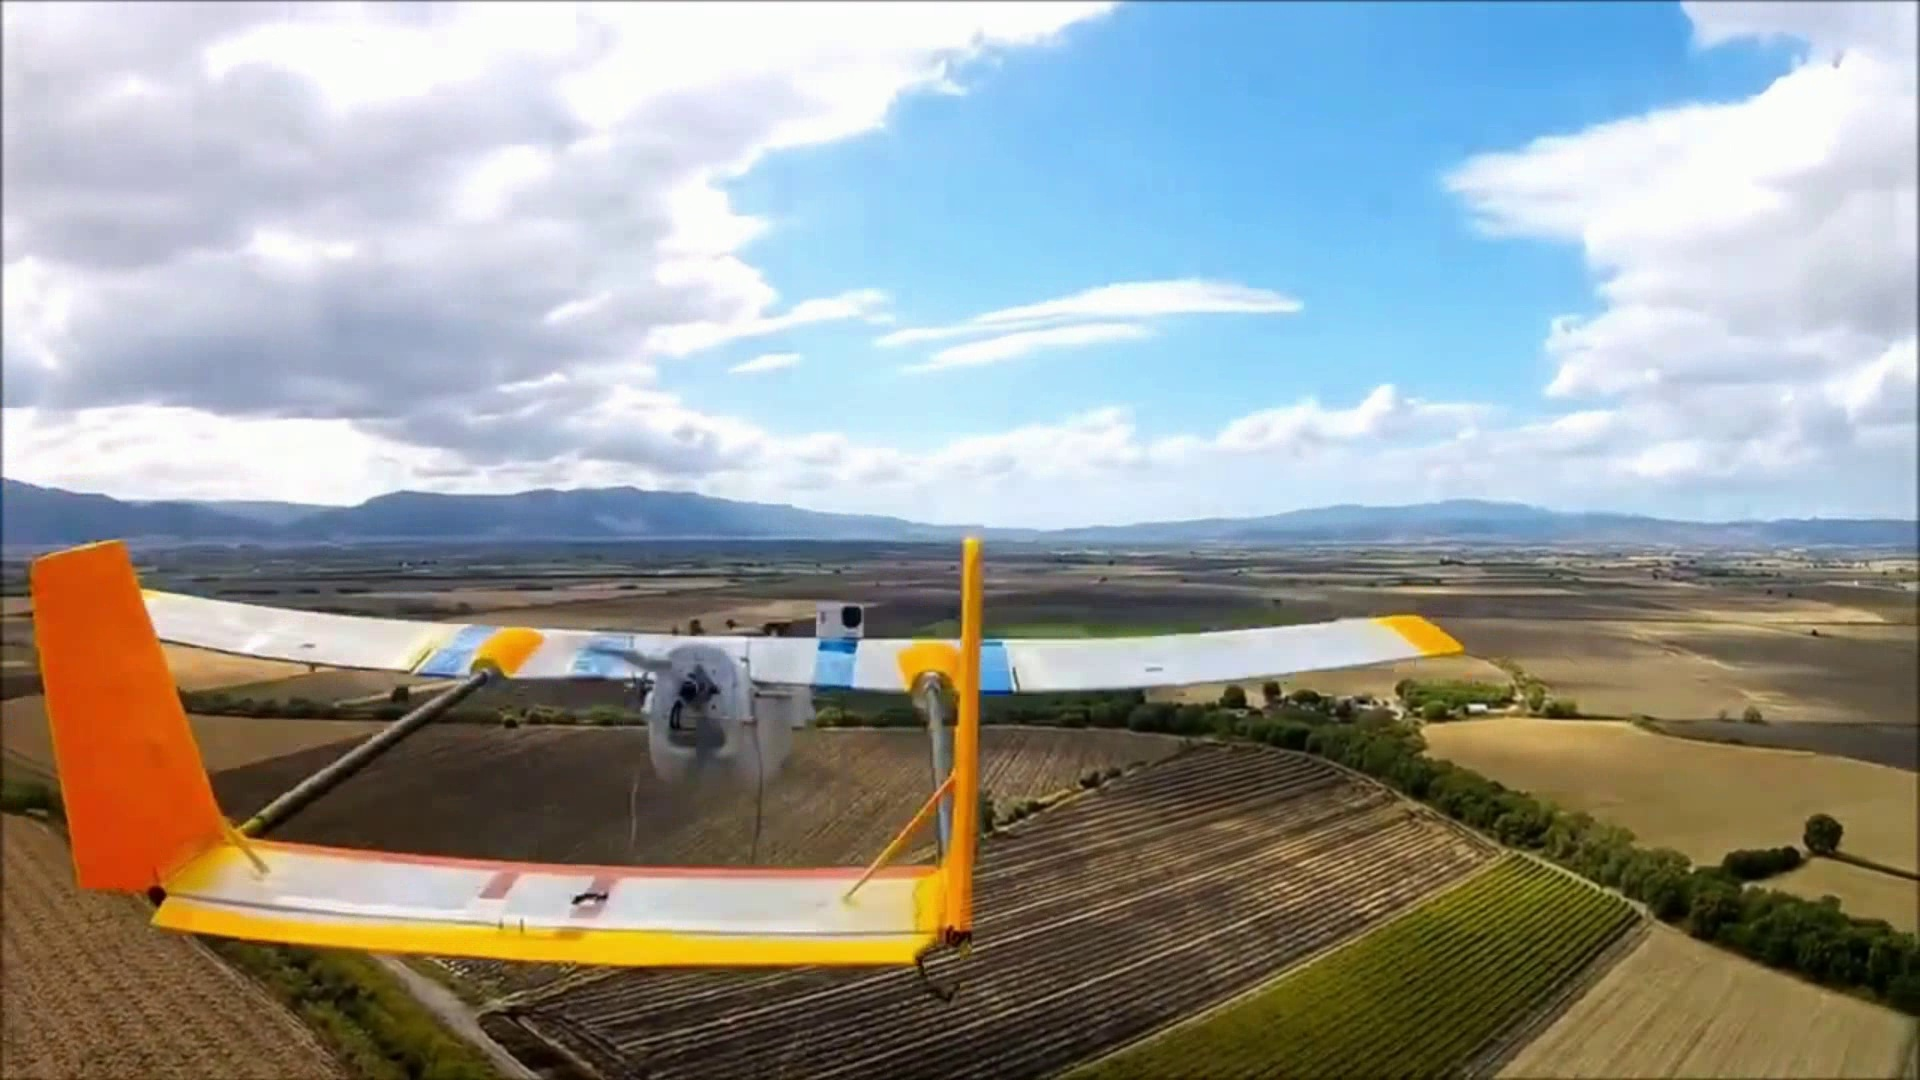airplane: (29, 553, 1507, 766)
